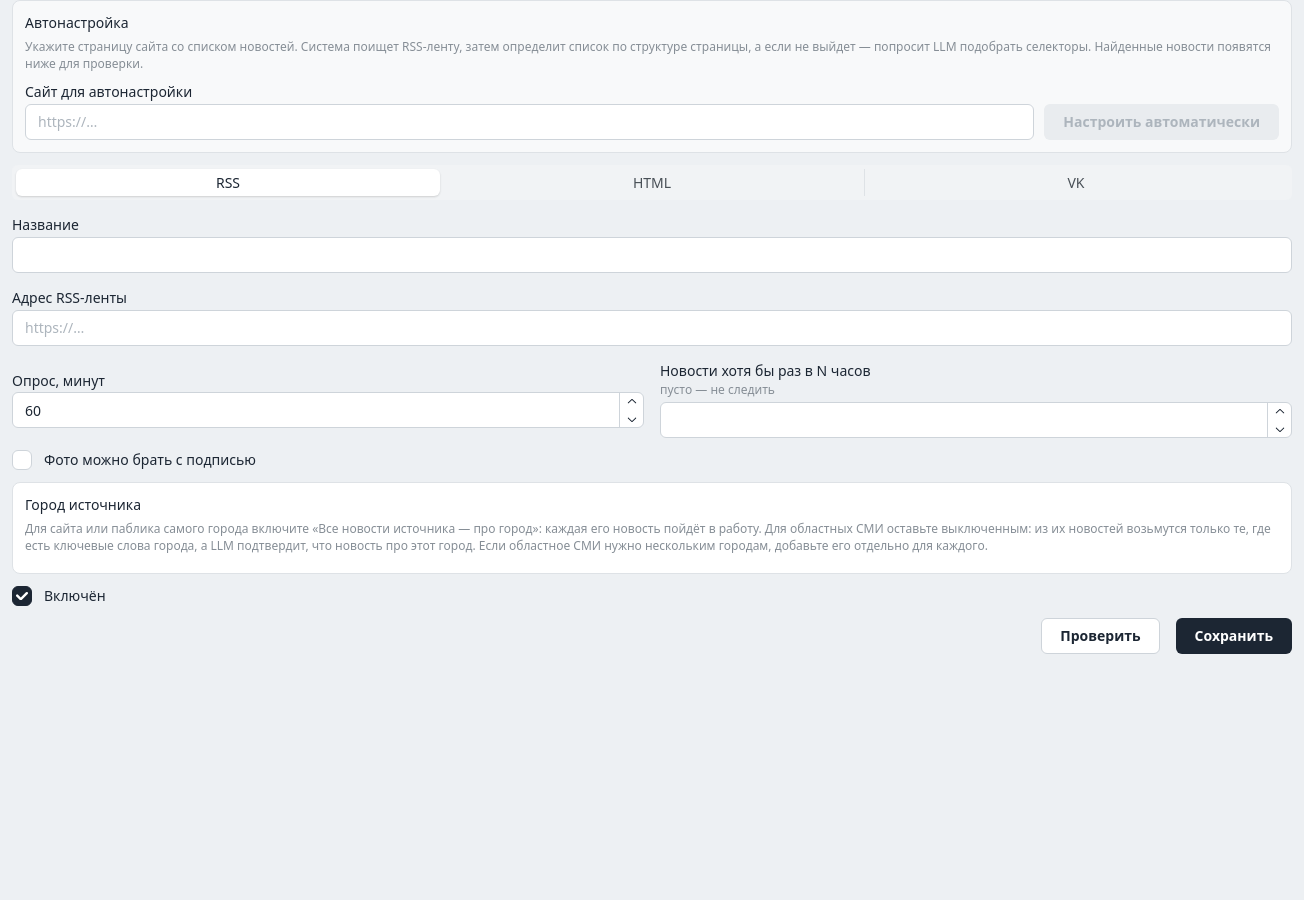
SourceForm › shows server validation error on field
The width and height of the screenshot is (1304, 900).
Type "X" into the field labelled "Название" at [652, 255], box [12,237,1292,273]
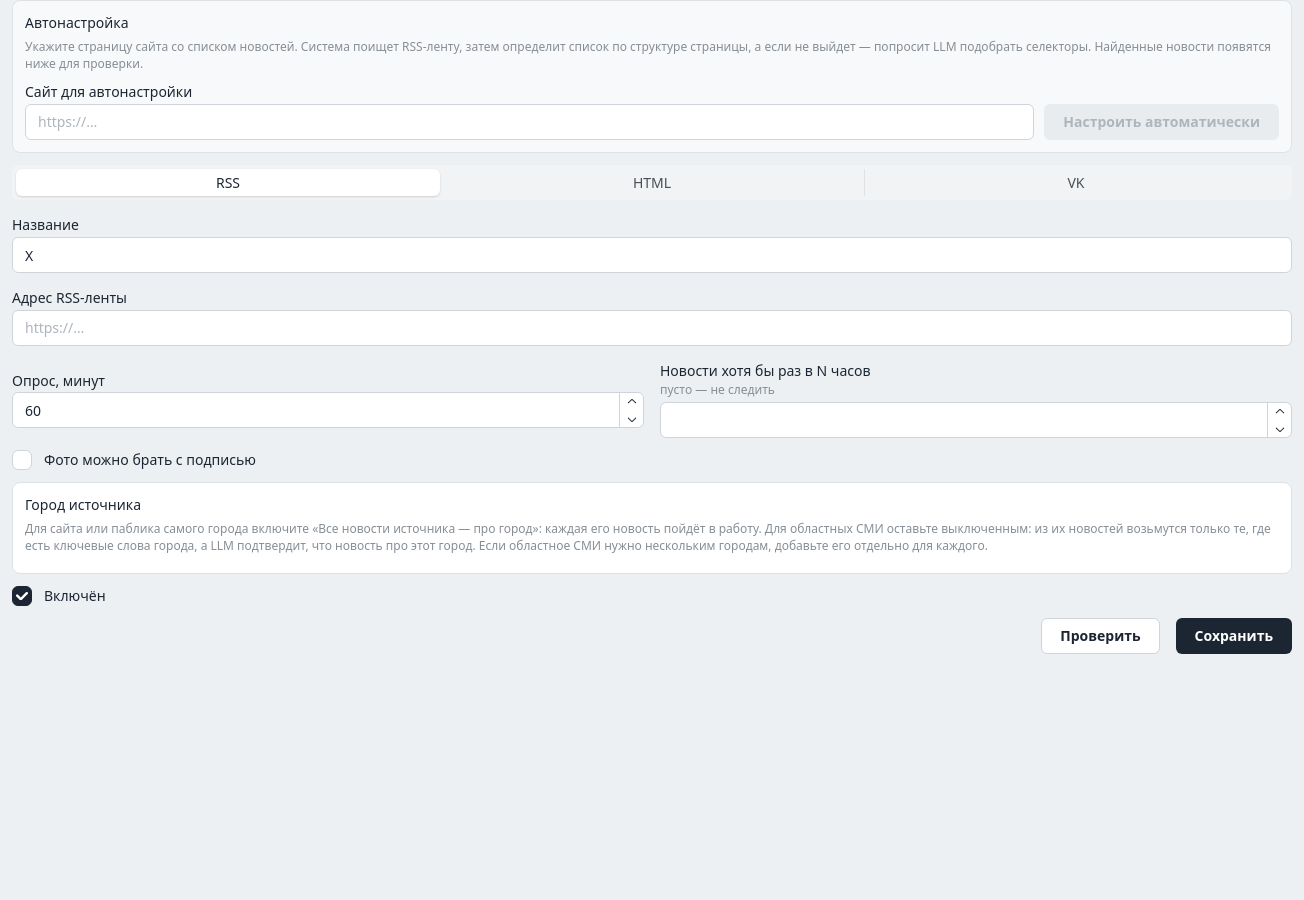
Type "nope" into the field labelled "Адрес RSS-ленты" at [652, 328], box [12,310,1292,346]
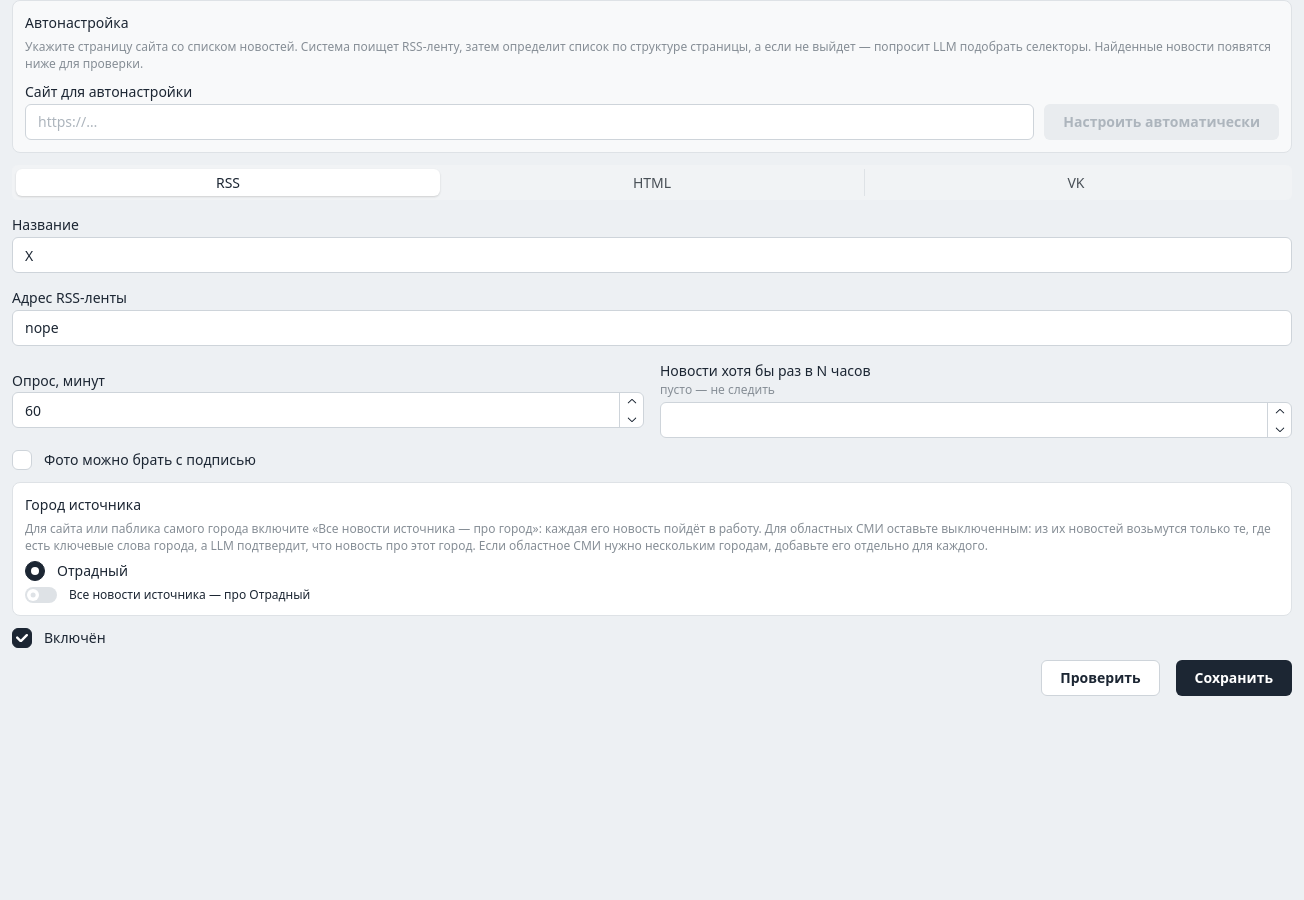
Click the button "Сохранить" at [1234, 678], box [1176,660,1292,696]
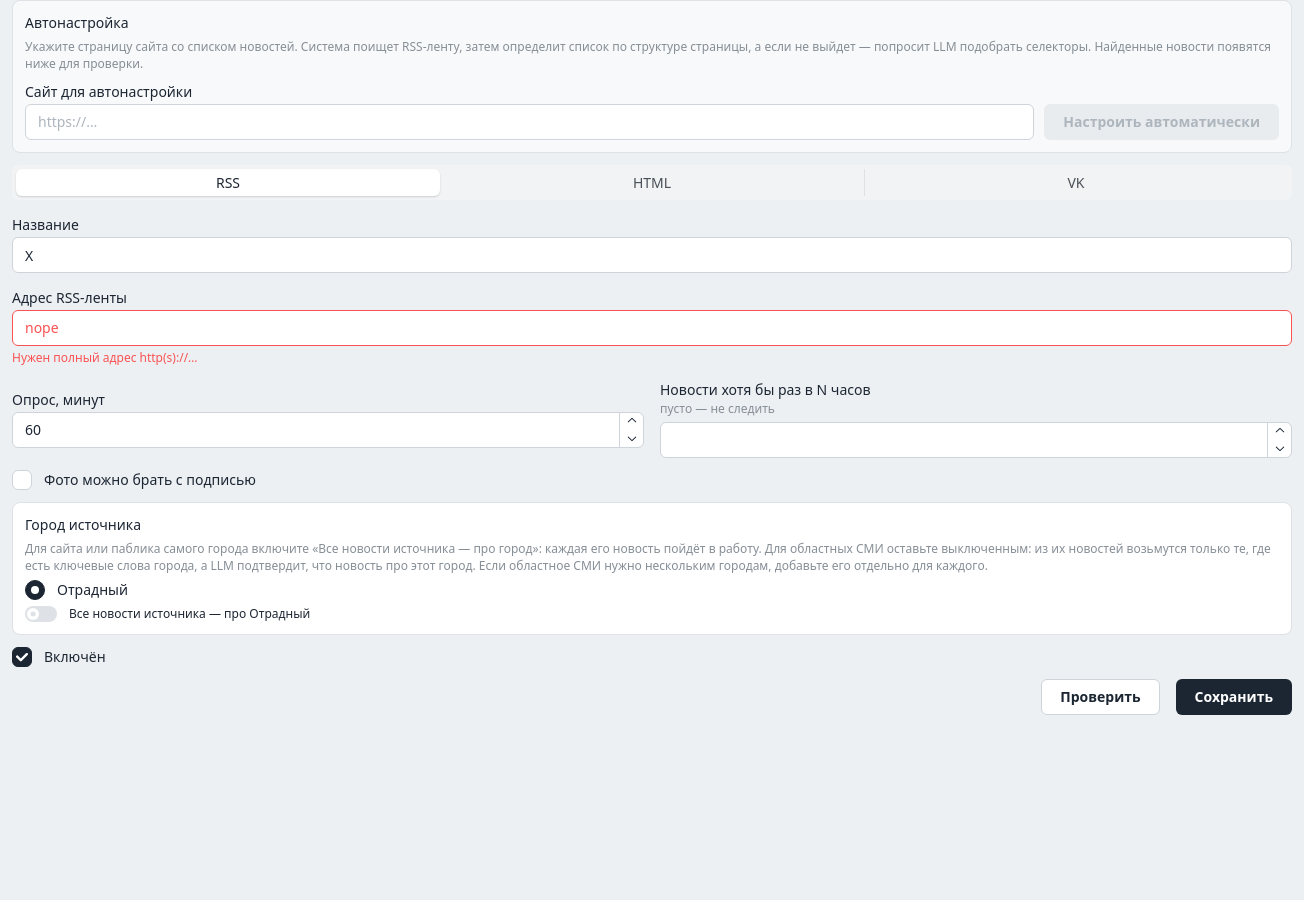
Now the text "Нужен полный адрес http(s)://…" is shown, box [12,349,198,366]
